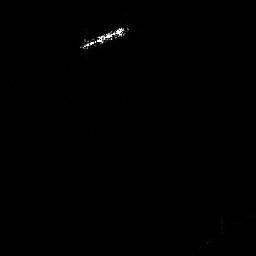ship: (76, 22, 133, 52)
